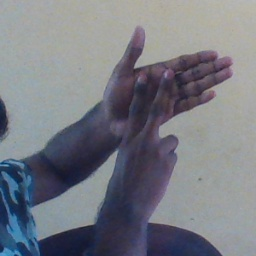N: (95, 24, 238, 185)
